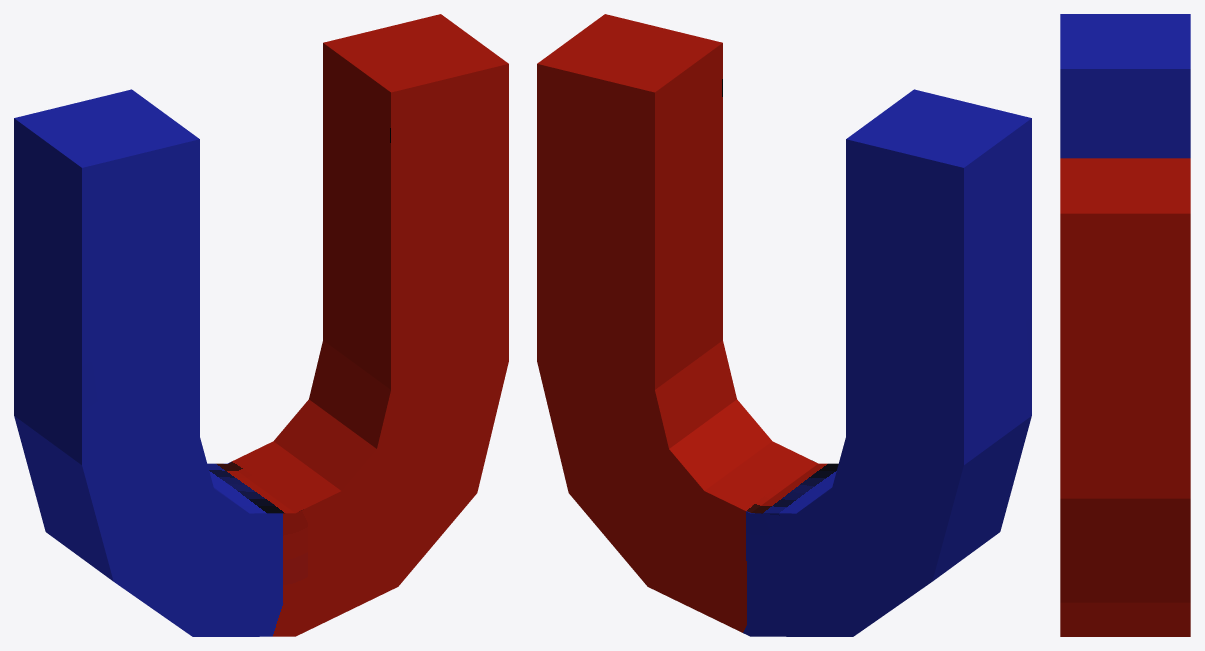
The model's file is Magnet.fbx.
3 renders of one model, left to right at view 1: azimuth 30°, elevation 25°; view 2: azimuth 150°, elevation 25°; view 3: azimuth 270°, elevation 25°, orthographic. The views are drawn at different scales.
Visible parts, largest first — view 1: Magnet; view 2: Magnet; view 3: Magnet.
Part boxes in pixels (x1,y1,x2,y2): Magnet: (14,14,508,636); Magnet: (537,14,1031,636); Magnet: (1060,14,1190,636).
Size of the model in its own units: 64.44 by 75.13 by 17.79.
